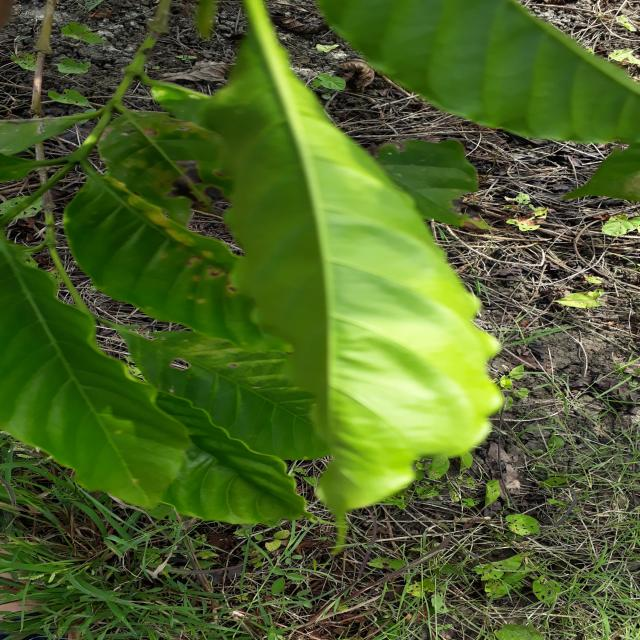Sanas: (175, 0, 503, 524)
